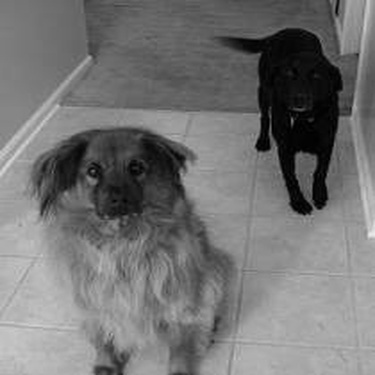dog: (14, 117, 237, 373), (210, 21, 355, 220)
